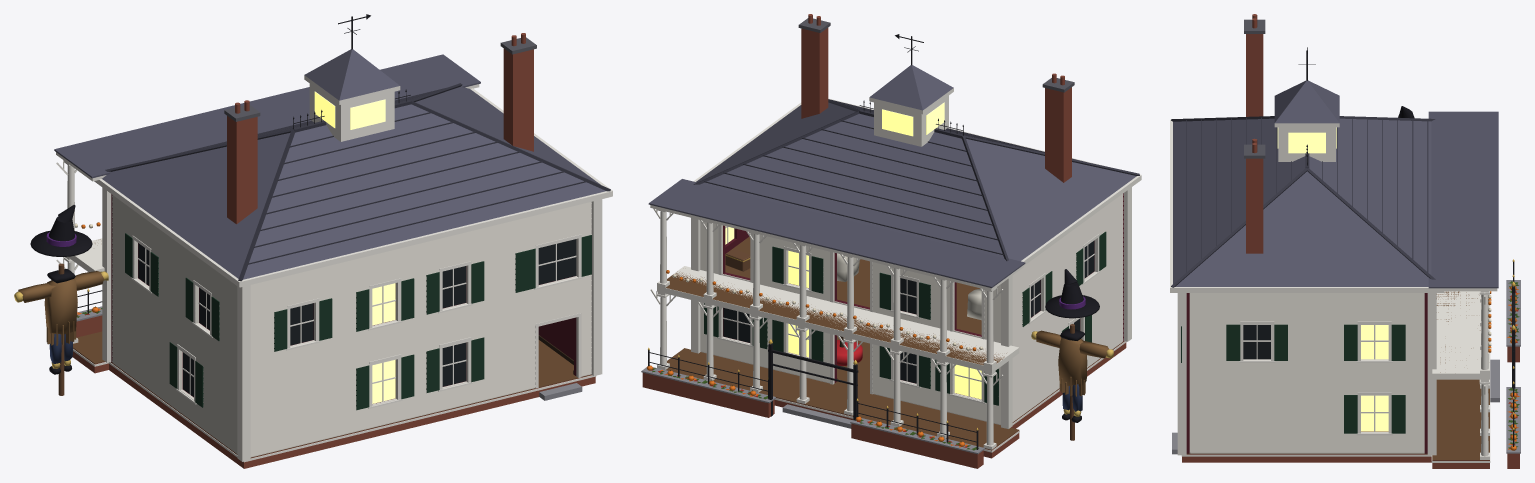
File: hg-mansion.glb
The picture shows the model from 3 angles, left to right: view 1: azimuth 30°, elevation 25°; view 2: azimuth 150°, elevation 25°; view 3: azimuth 270°, elevation 25°; orthographic projection. The views are drawn at different scales.
Parts seen in each view (by area): view 1: hg-mansion; view 2: hg-mansion; view 3: hg-mansion.
Boxes of the visible parts, x1=… form: hg-mansion: x1=14, y1=14, x2=612, y2=468; hg-mansion: x1=641, y1=14, x2=1141, y2=468; hg-mansion: x1=1170, y1=14, x2=1520, y2=468.
Size of the model in its own units: 20.57 by 14.68 by 14.02.
